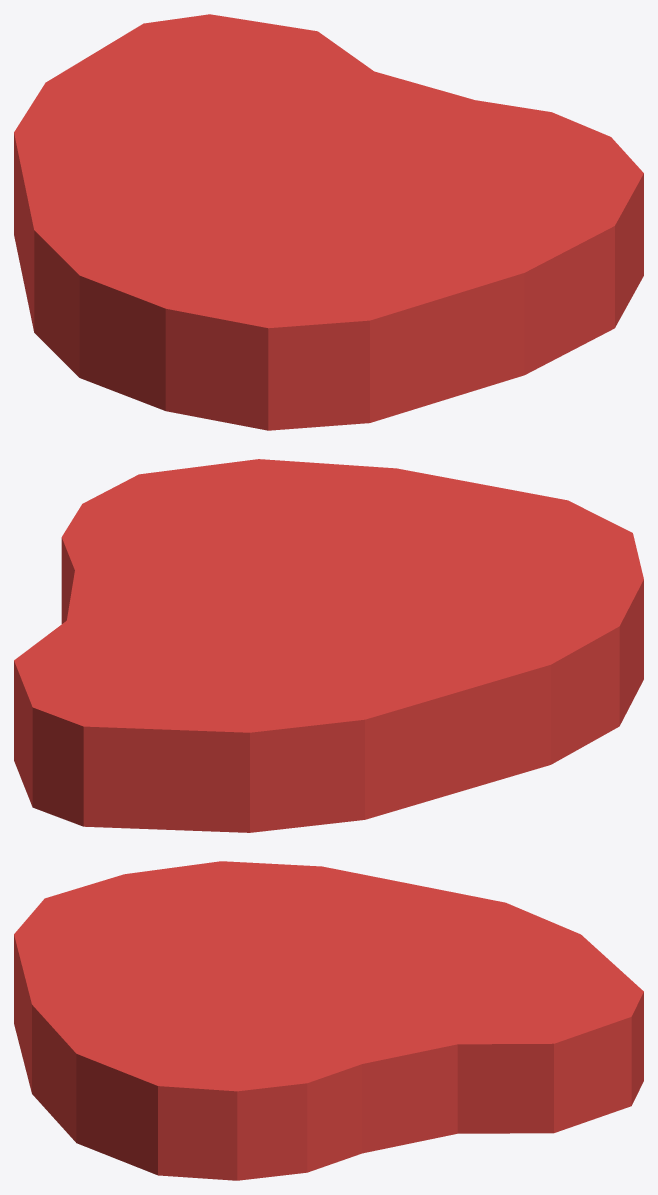
3 views of the same model, one above another, from view 1: azimuth 30°, elevation 25°; view 2: azimuth 150°, elevation 25°; view 3: azimuth 270°, elevation 25° (orthographic). The views are drawn at different scales.
Visible parts, largest first — view 1: 肉; view 2: 肉; view 3: 肉.
Part boxes in pixels (x1,y1,x2,y2): 肉: (14,14,643,430); 肉: (14,459,643,832); 肉: (14,861,643,1180).
Size of the model in its own units: 59.21 by 10.73 by 68.48.
